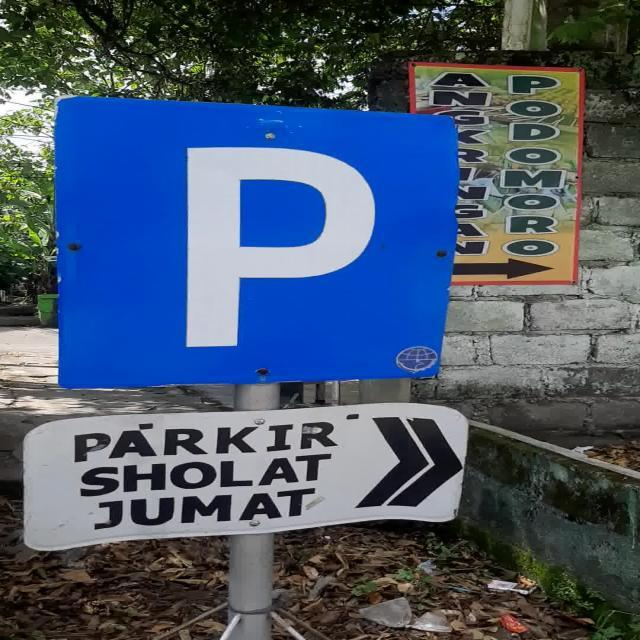Tempat Parkir: (56, 96, 458, 390)
